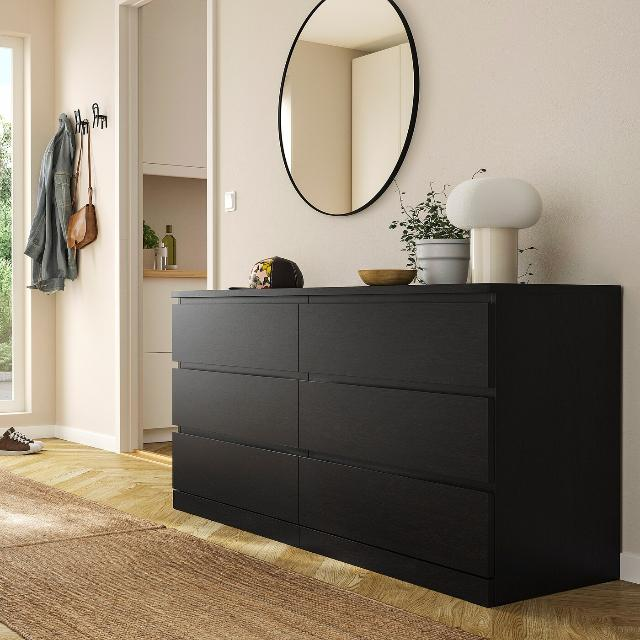dresser: (165, 271, 638, 624)
